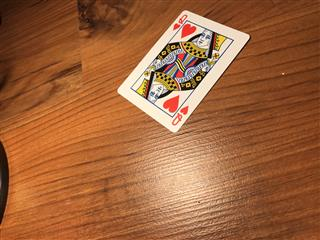QueenOfHearts: (116, 8, 250, 133)
